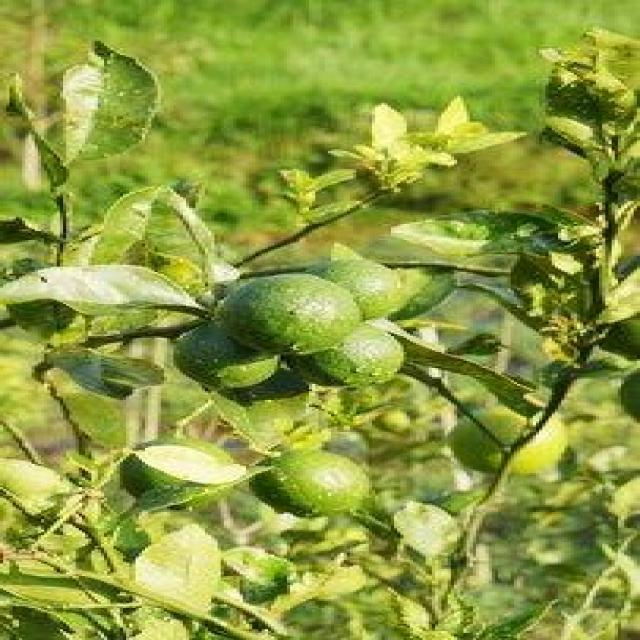Jeruk Belum Matang: (211, 272, 353, 356), (448, 407, 570, 477), (120, 439, 233, 507), (252, 454, 369, 516), (293, 324, 404, 389), (174, 323, 280, 388), (318, 261, 407, 315)
